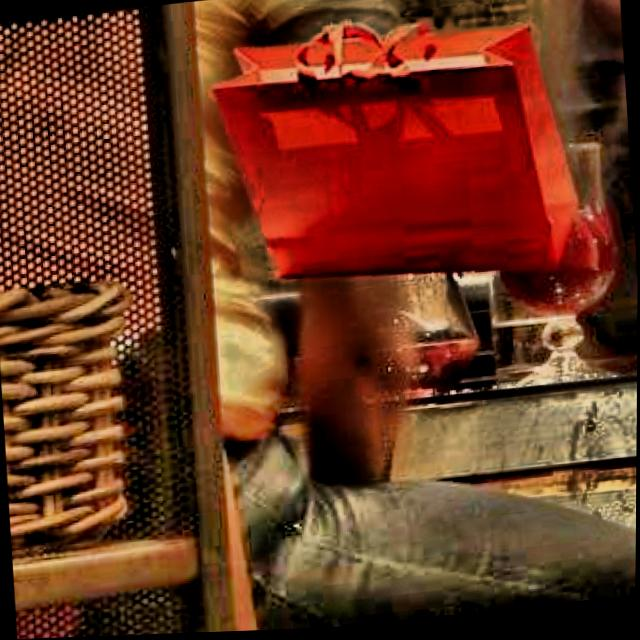Paper-bag: (205, 3, 589, 325)
